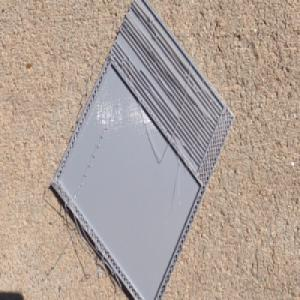PlasticPart: (49, 0, 236, 300)
